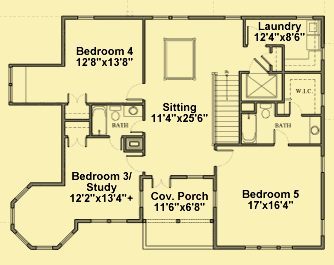door: (245, 26, 267, 48), (123, 81, 145, 102), (124, 155, 144, 174), (248, 57, 270, 74), (65, 92, 89, 107), (214, 149, 234, 166), (149, 176, 173, 190), (273, 128, 290, 146), (287, 100, 304, 117), (129, 118, 146, 134), (66, 134, 86, 147), (108, 136, 123, 151)
large_sink: (258, 103, 273, 119), (109, 105, 122, 122)
small_sink: (308, 117, 322, 143), (122, 105, 142, 117)
stairs: (210, 71, 241, 143)
tub: (240, 112, 258, 145), (92, 105, 108, 137)
window: (149, 13, 190, 21), (89, 217, 128, 225), (58, 231, 75, 247), (7, 65, 14, 103), (13, 185, 29, 200), (245, 246, 293, 250), (319, 218, 326, 236), (75, 14, 94, 20), (212, 191, 218, 209), (320, 155, 325, 176), (223, 15, 243, 20)
